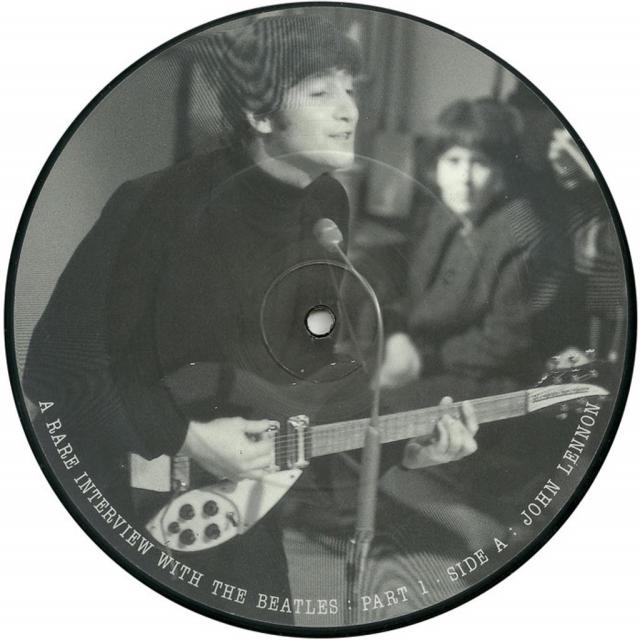nomask: (270, 48, 358, 168), (435, 136, 507, 214)
